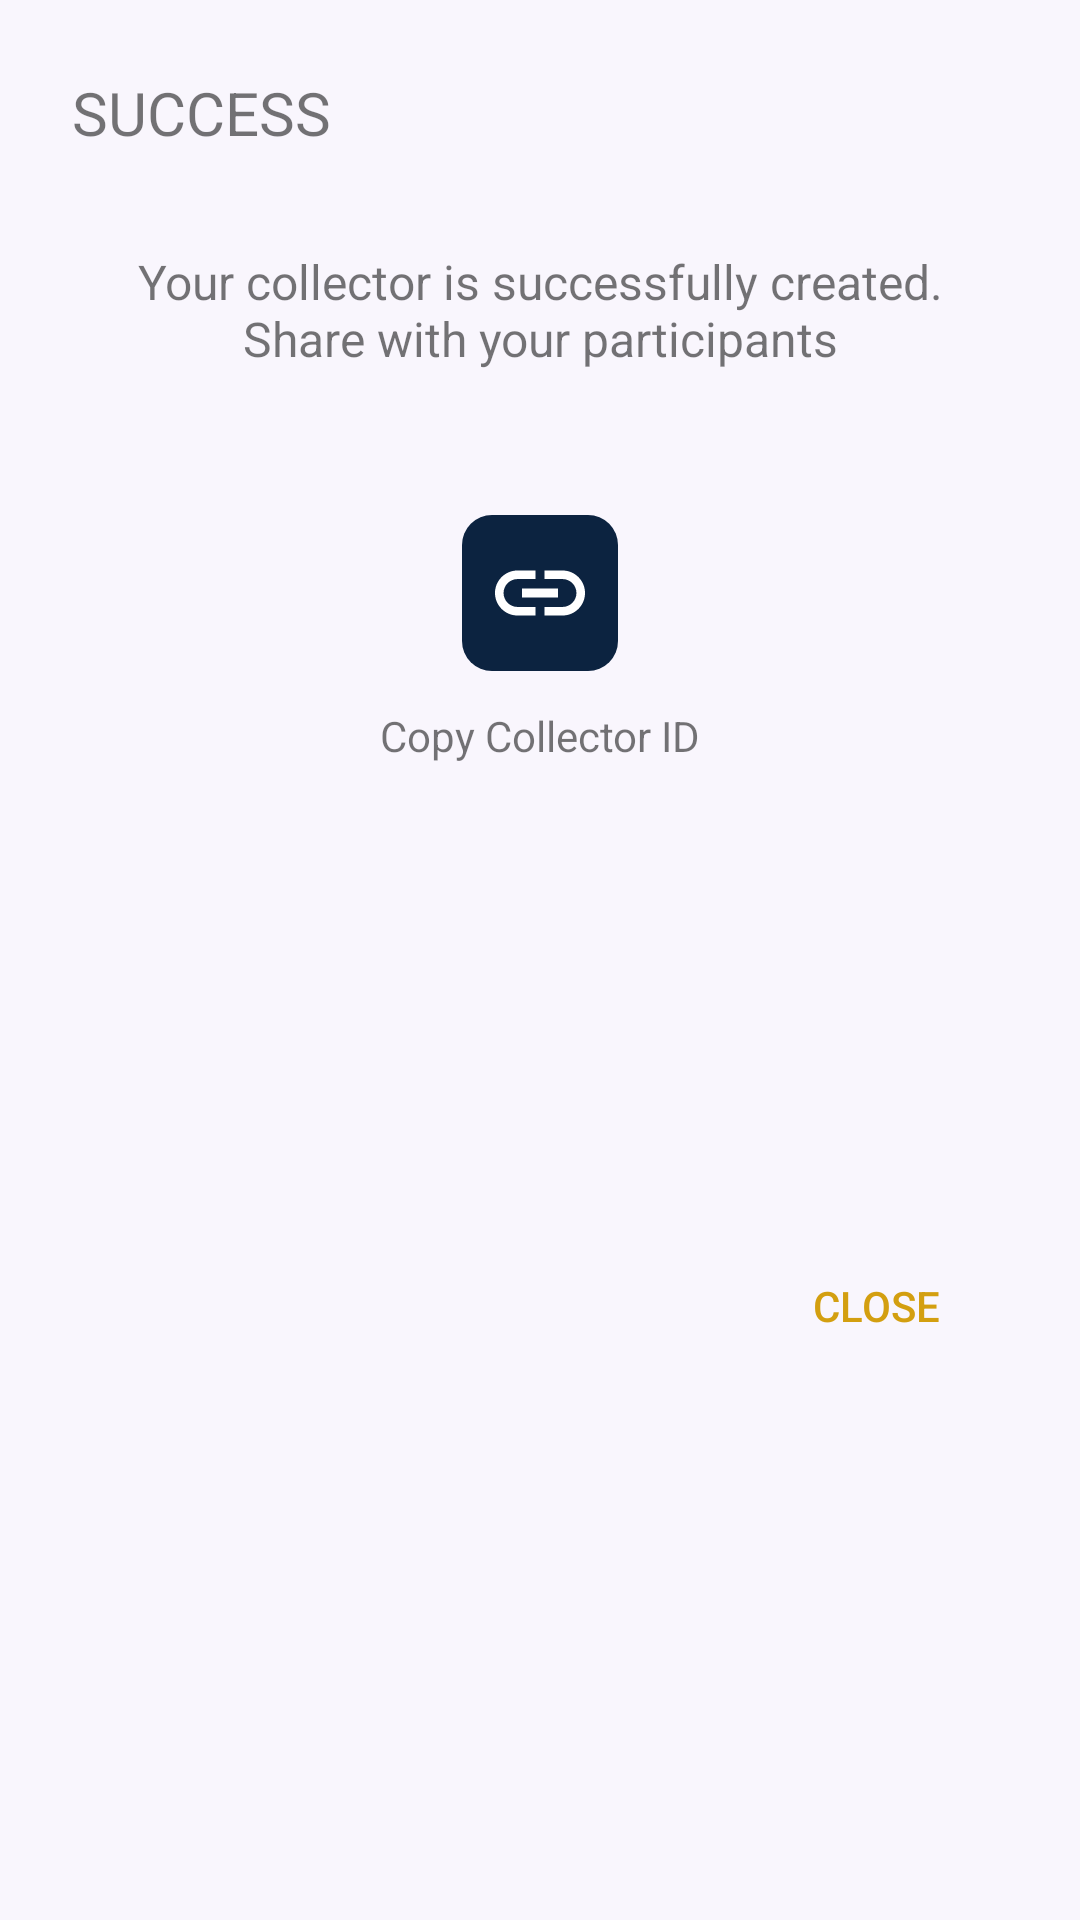

Where to tap for icons on this 1080px x 1920px app screen, as point (x, y):
link: point (540, 593)
